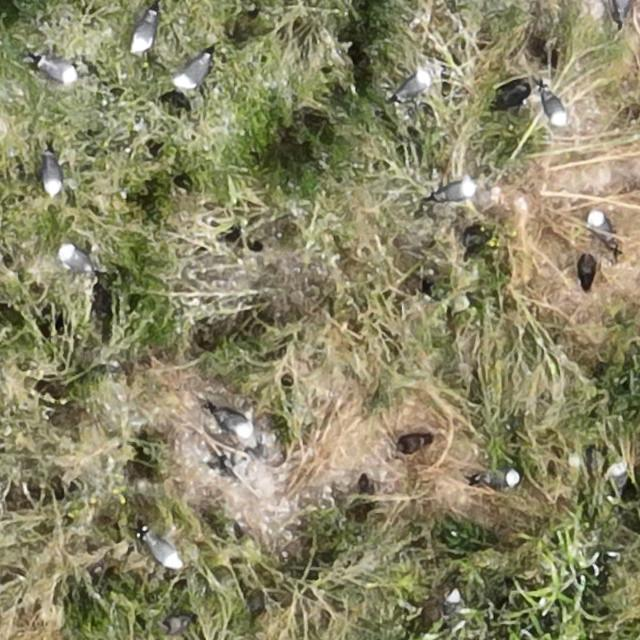umineko: (148, 537, 182, 567), (177, 56, 210, 86), (400, 70, 428, 102), (477, 468, 521, 488), (41, 59, 77, 81), (132, 14, 154, 50), (43, 155, 63, 194), (220, 410, 250, 436), (60, 248, 91, 273), (543, 92, 565, 123), (438, 182, 472, 202), (589, 213, 613, 240), (608, 462, 628, 491), (616, 0, 630, 19)
